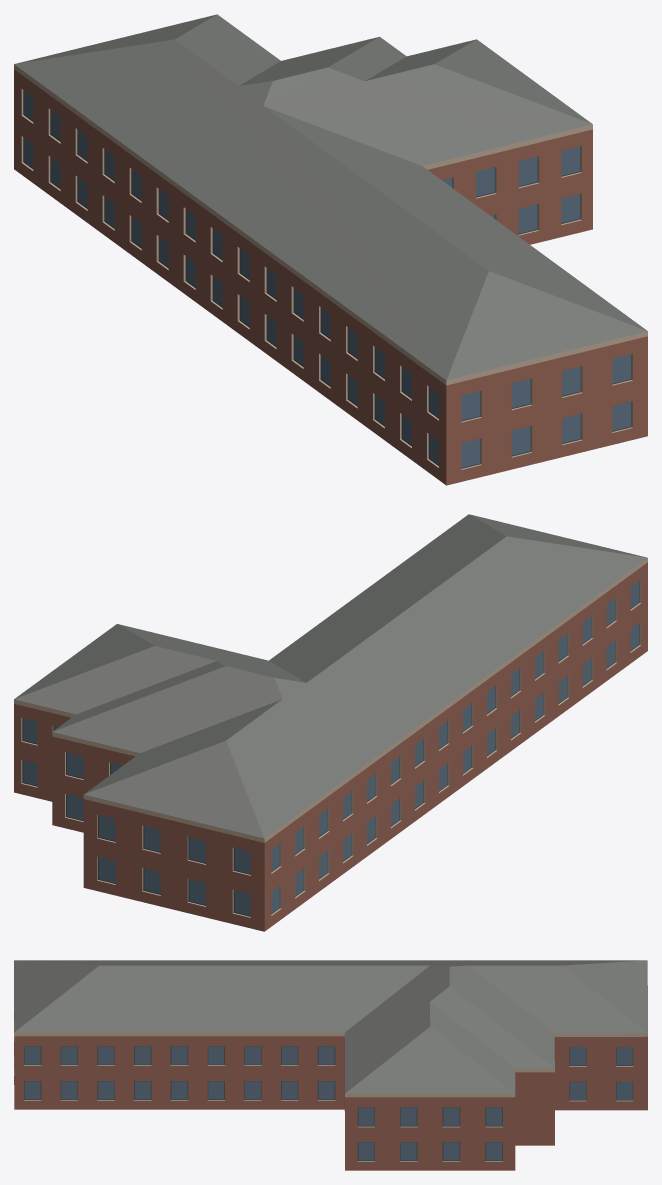
File: dc-au-mccabe-hall.detail.glb
3 renders of one model, top to bottom at view 1: azimuth 30°, elevation 25°; view 2: azimuth 150°, elevation 25°; view 3: azimuth 270°, elevation 25°, orthographic. The views are drawn at different scales.
Visible parts, largest first — view 1: McCabe Hall; view 2: McCabe Hall; view 3: McCabe Hall.
Boxes of the visible parts, box(x1,y1,x2,y2) form: McCabe Hall: box(14, 14, 647, 485); McCabe Hall: box(14, 514, 647, 931); McCabe Hall: box(14, 960, 647, 1170).
Bounding box in the file's own units: 24.86 × 10.01 × 49.98.
